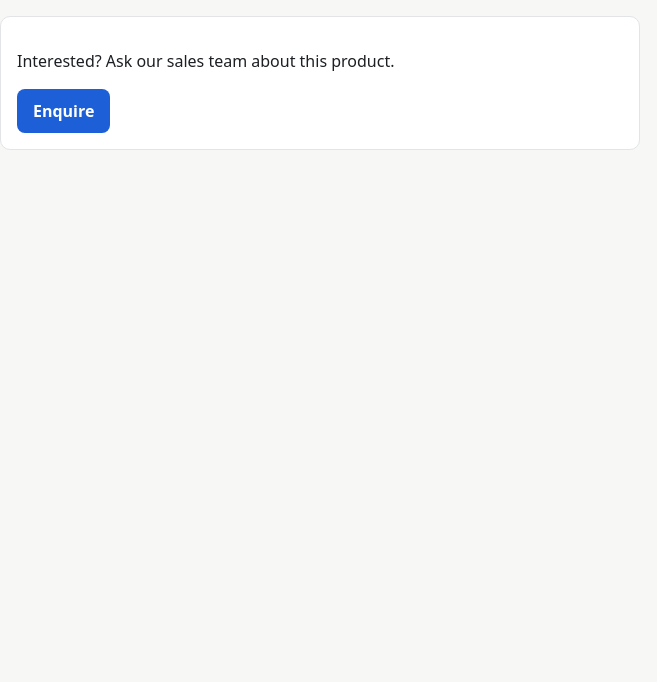
Test: EnquiryForm › validates required fields and formats before submitting
Click the button "Enquire" at {"x": 64, "y": 111}, box [17,89,110,133]
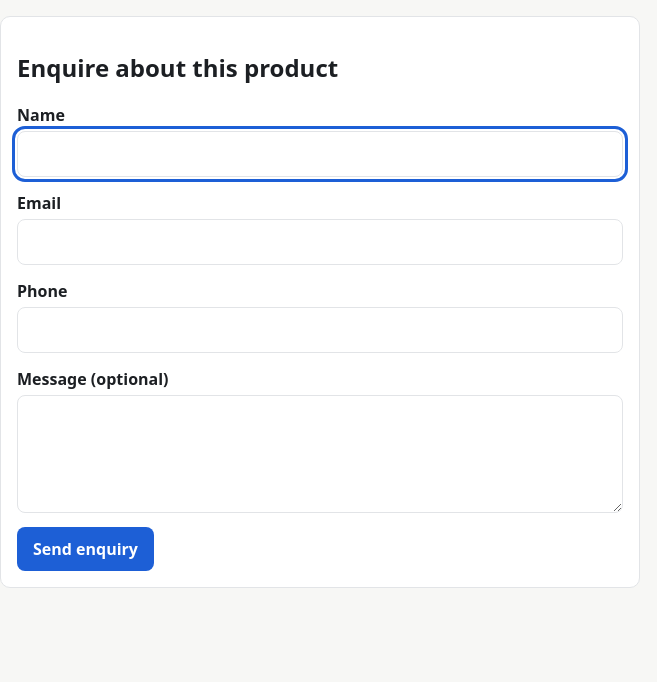
Type "not-an-email" into the field labelled "Email" at {"x": 320, "y": 242}, box [17,219,623,265]
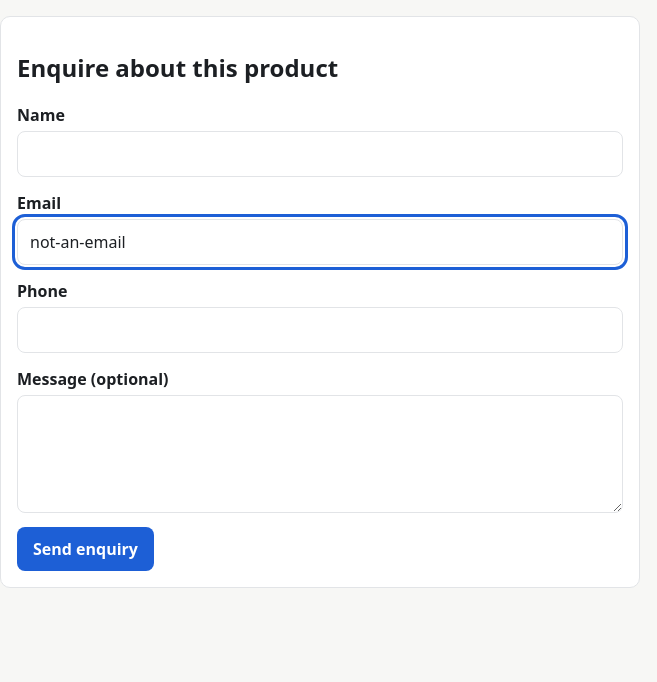
Type "abc" into the field labelled "Phone" at {"x": 320, "y": 330}, box [17,307,623,353]
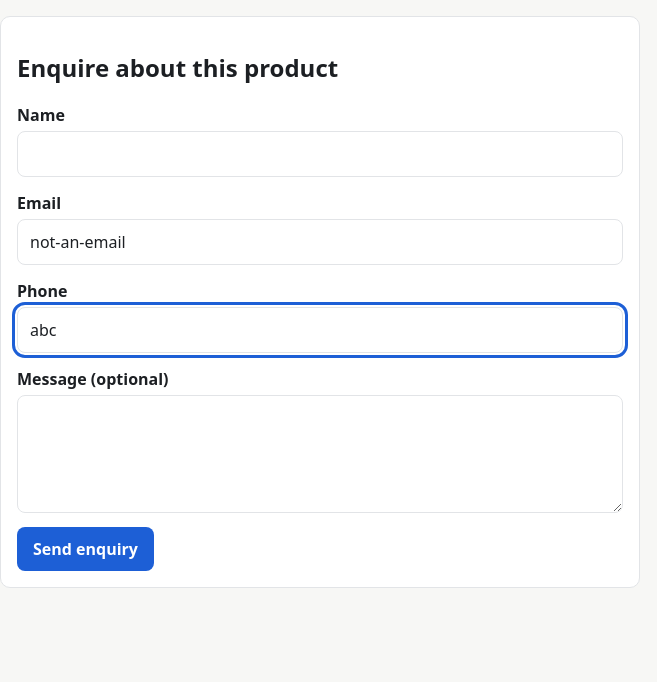
Click the button "Send enquiry" at {"x": 85, "y": 549}, box [17,527,154,571]
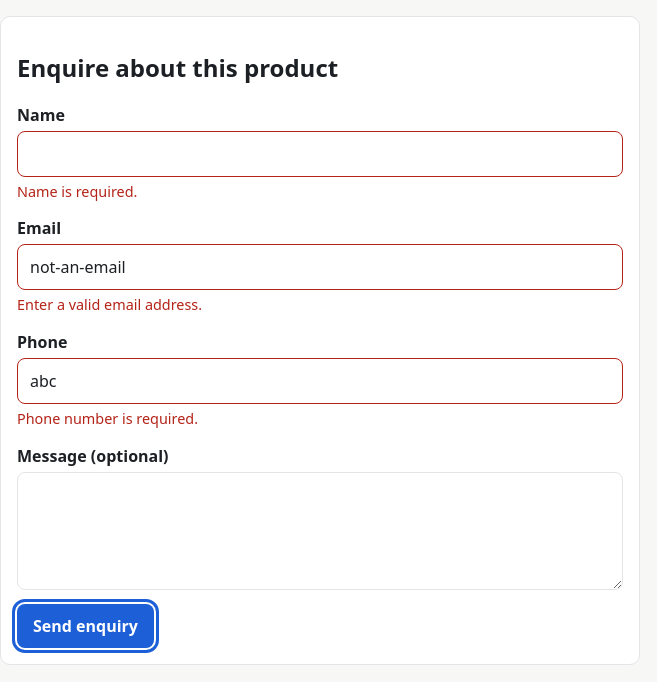
Now the text "Name is required." is shown, box [17,182,137,201]
Now the text "Enter a valid email address." is shown, box [17,295,202,314]
